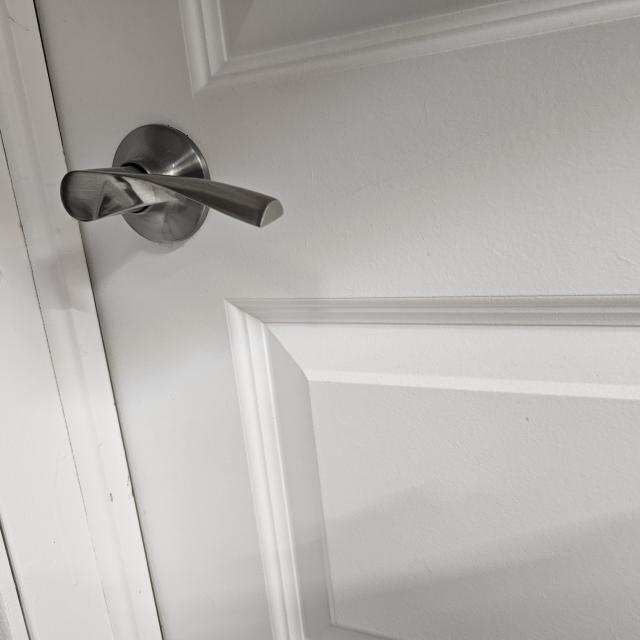door-handle: (60, 125, 284, 244)
